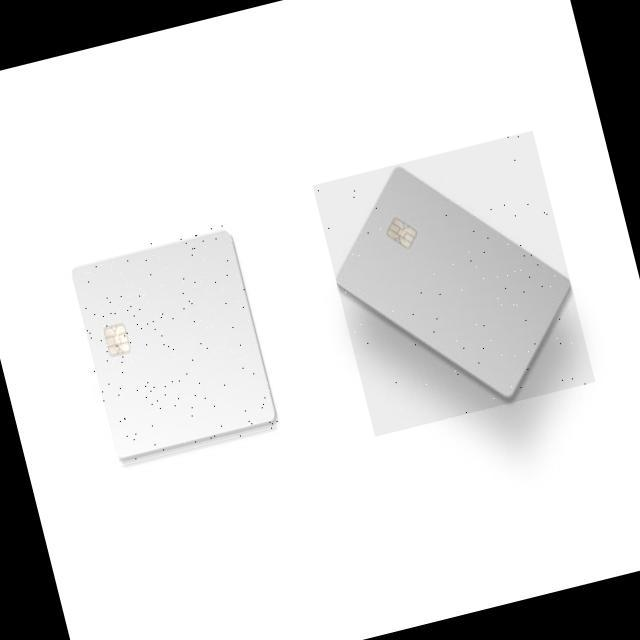payment_card: (338, 164, 570, 400), (70, 227, 278, 463)
